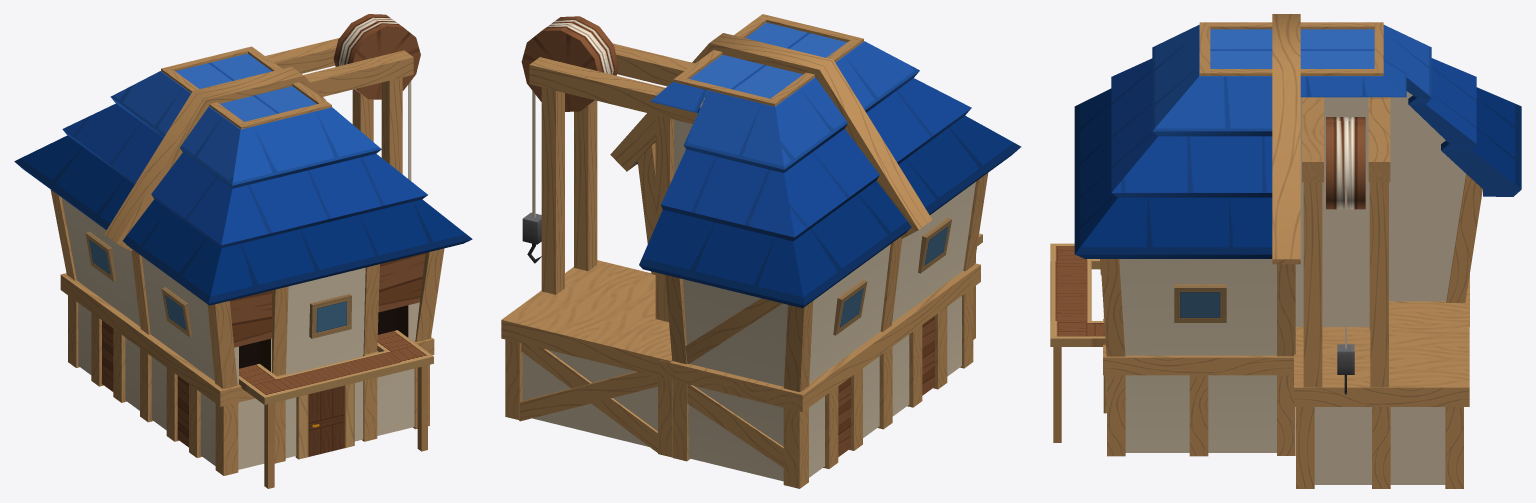
The model's file is building_storage_lv4.FBX.
3 renders of one model, left to right at view 1: azimuth 30°, elevation 25°; view 2: azimuth 150°, elevation 25°; view 3: azimuth 270°, elevation 25°, orthographic. The views are drawn at different scales.
Visible parts, largest first — view 1: building_storage_lv4, building_storage_roof_lv4; view 2: building_storage_lv4, building_storage_roof_lv4; view 3: building_storage_lv4, building_storage_roof_lv4.
Boxes of the visible parts, bbox=[...] form: building_storage_lv4: bbox=[50, 14, 444, 488]; building_storage_roof_lv4: bbox=[14, 53, 472, 305]; building_storage_lv4: bbox=[501, 14, 988, 488]; building_storage_roof_lv4: bbox=[635, 22, 1021, 308]; building_storage_lv4: bbox=[1050, 14, 1482, 488]; building_storage_roof_lv4: bbox=[1074, 24, 1521, 258].
Size of the model in its own units: 512 by 469 by 548.
